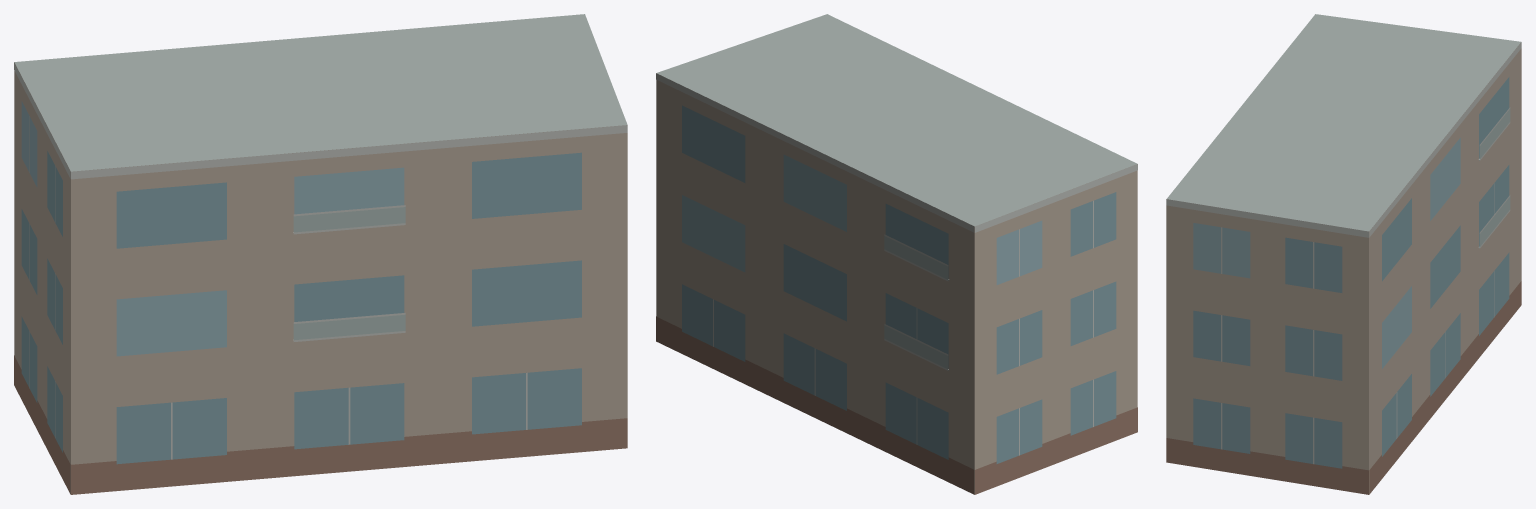
File: survey-upis-32903392.glb
3 views of the same model, side by side, from view 1: azimuth 30°, elevation 25°; view 2: azimuth 150°, elevation 25°; view 3: azimuth 270°, elevation 25° (orthographic). The views are drawn at different scales.
Visible parts, largest first — view 1: survey-upis-32903392.tmp; view 2: survey-upis-32903392.tmp; view 3: survey-upis-32903392.tmp.
Part boxes in pixels (bbox=[...]): survey-upis-32903392.tmp: bbox=[14, 14, 627, 494]; survey-upis-32903392.tmp: bbox=[656, 14, 1137, 494]; survey-upis-32903392.tmp: bbox=[1166, 14, 1521, 494].
Size of the model in its own units: 17.9 by 10.1 by 12.35.
